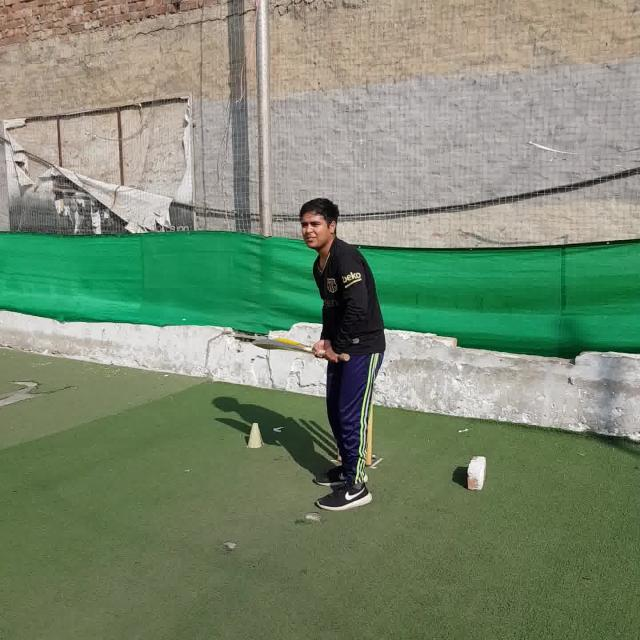bat: (252, 338, 350, 360)
